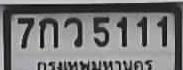1: (156, 15, 166, 46), (116, 16, 126, 46), (136, 16, 146, 46)
5: (92, 16, 109, 46)
7: (17, 18, 33, 48)
A01: (38, 17, 57, 48)
A37: (63, 17, 82, 47)
BKK: (36, 57, 154, 70)
